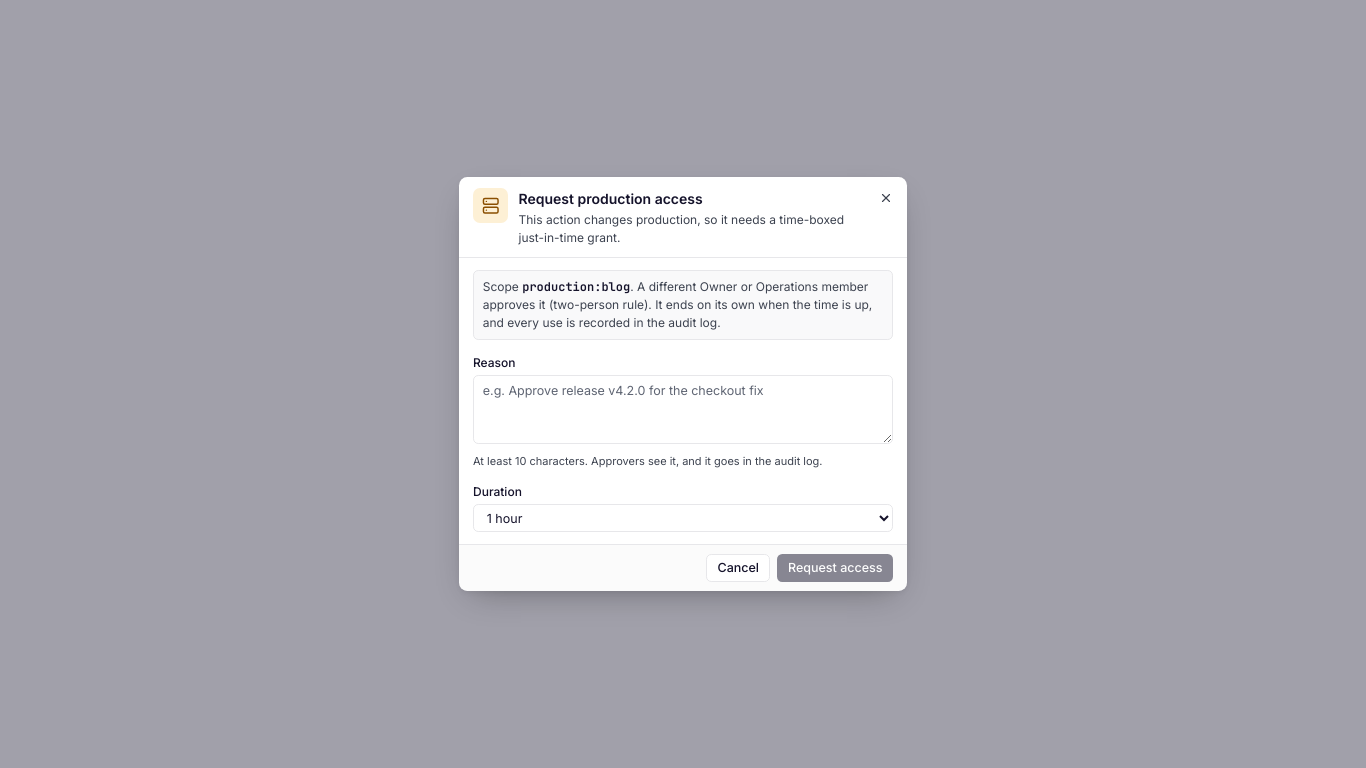
it: JitAccessHost › shows the API’s refusal inline and never announces success
The width and height of the screenshot is (1366, 768).
Expected: the dialog "Request production access" is shown, [459, 177, 907, 591]
In the text box labelled "Reason": (683, 410) [473, 375, 893, 444], type "Roll back the blog release"
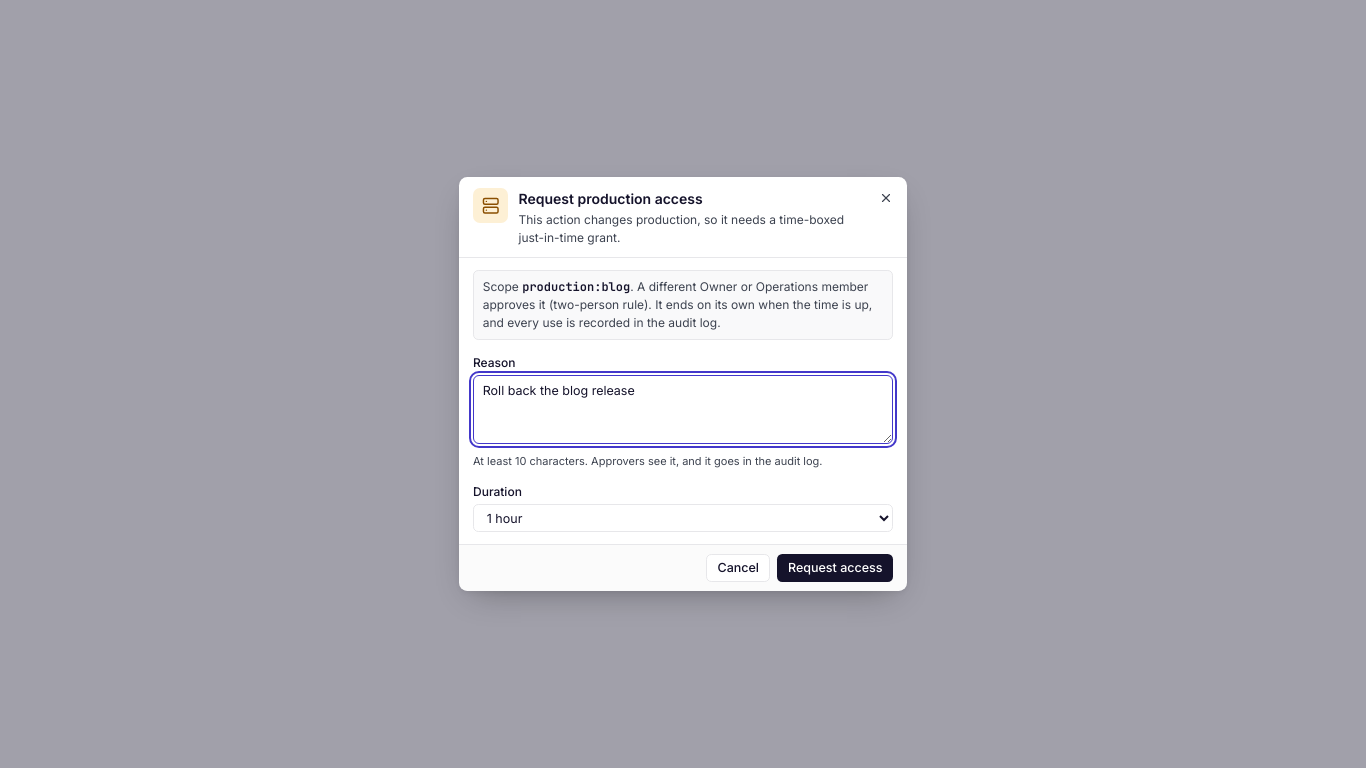
Click the button "Request access": (835, 568) [778, 554, 893, 582]
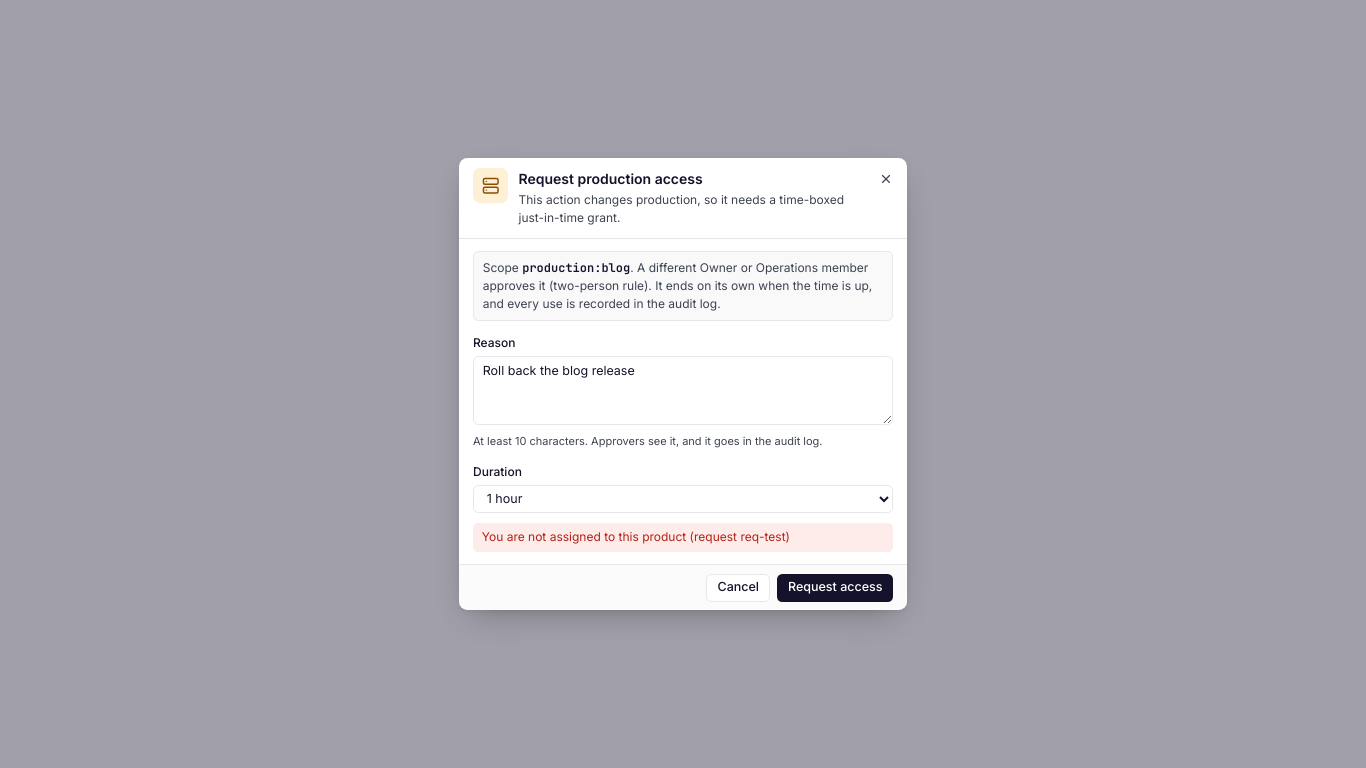
Expected: the dialog is shown, [459, 158, 907, 610]
Now the message shows "You are not assigned", box [482, 529, 790, 544]
